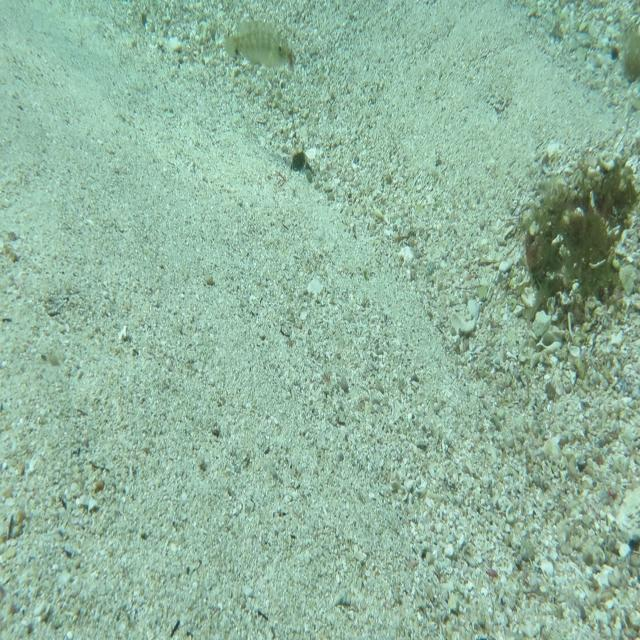AM: (224, 17, 292, 69)
core_nest: (586, 180, 622, 216)
nest: (521, 151, 637, 338)
nest_material: (288, 48, 296, 74)
vegetation: (613, 21, 640, 90), (290, 150, 307, 176)
